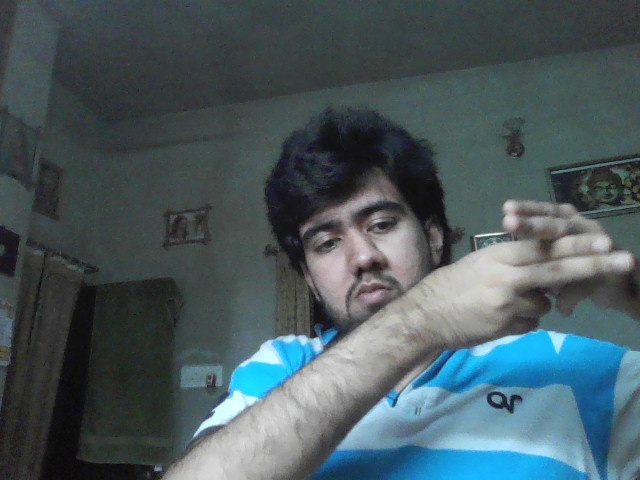Name: (431, 199, 640, 348)
